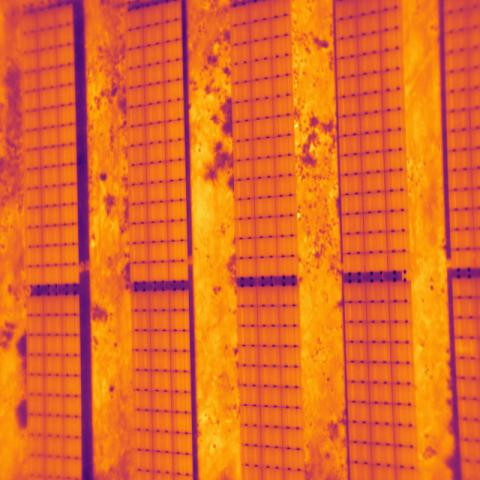fault: (454, 337, 480, 361)
